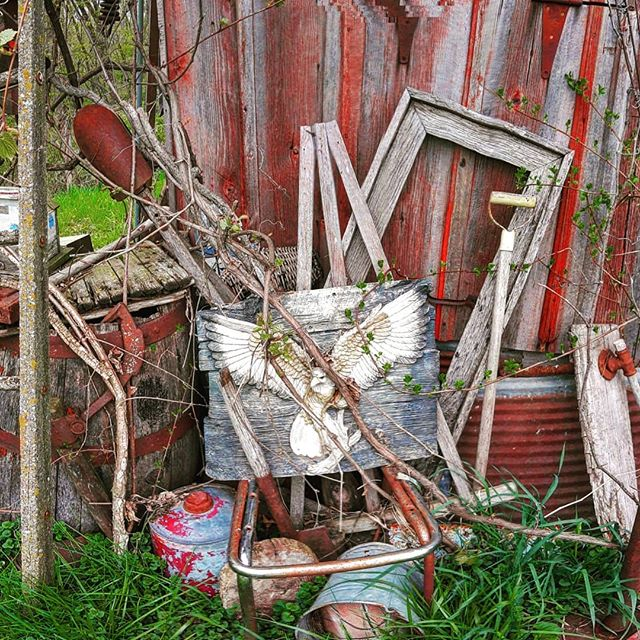trash: (1, 1, 621, 620)
